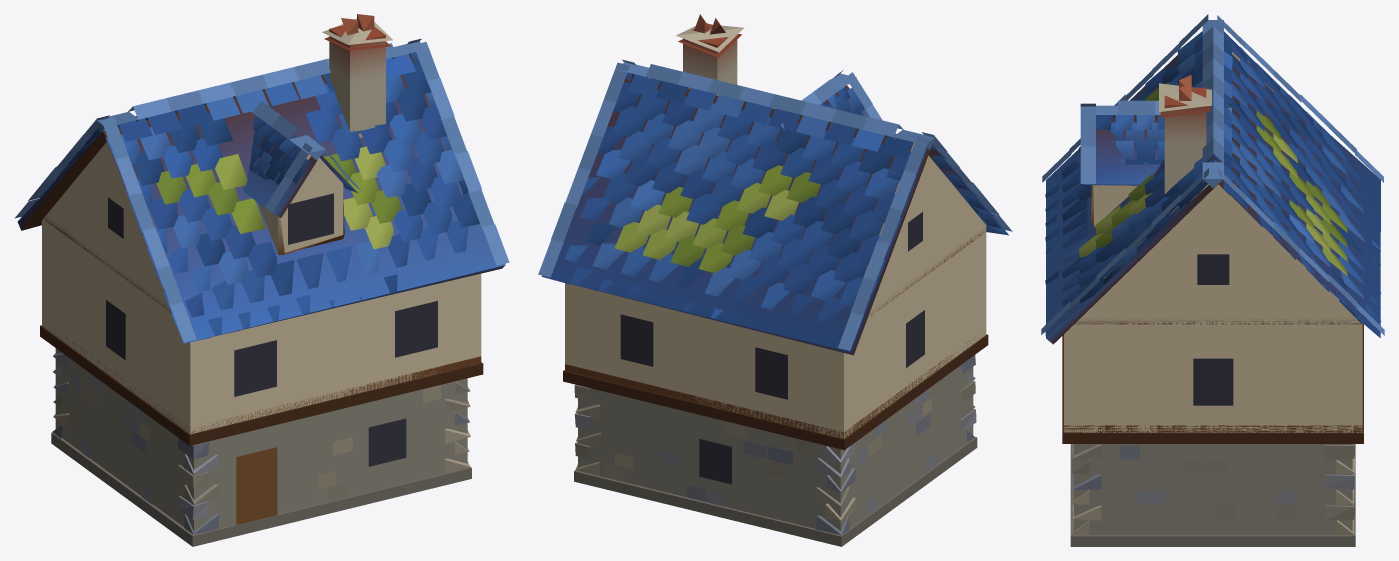
File: town_house_blue-lod1.glb
3 renders of one model, left to right at view 1: azimuth 30°, elevation 25°; view 2: azimuth 150°, elevation 25°; view 3: azimuth 270°, elevation 25°, orthographic. The views are drawn at different scales.
Visible parts, largest first — view 1: town_house_blue; view 2: town_house_blue; view 3: town_house_blue.
Boxes of the visible parts, x1,y1,x2,y2 form: town_house_blue: (14, 14, 509, 546); town_house_blue: (538, 14, 1012, 546); town_house_blue: (1041, 14, 1384, 546).
Size of the model in its own units: 9.5 by 12.12 by 8.62.
